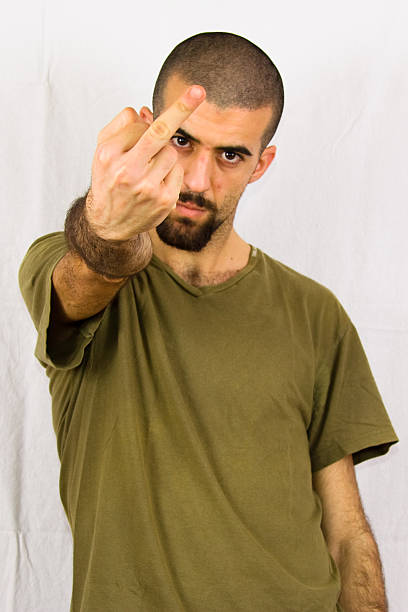insulting_gesture: (87, 84, 205, 237)
